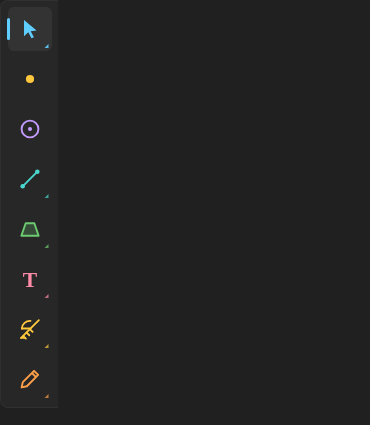
Test case: the same rail with a pointer › opens the variants on hover and ignores a held press
This screenshot has width=370, height=425.
Press the mouse on the button named "Straightedge" at {"x": 30, "y": 179}, box [8, 157, 52, 201]
Expected: the button "Segment" is not shown
Hover over the button named "Straightedge" at {"x": 30, "y": 179}, box [8, 157, 52, 201]
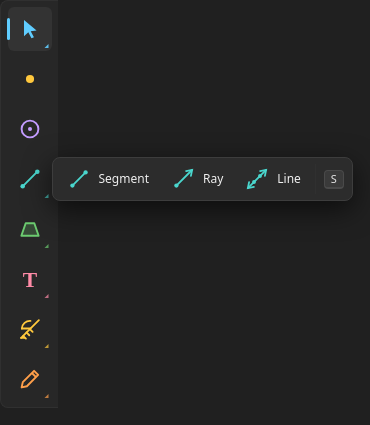
Result: the button "Segment" is shown at [56, 162, 159, 196]
